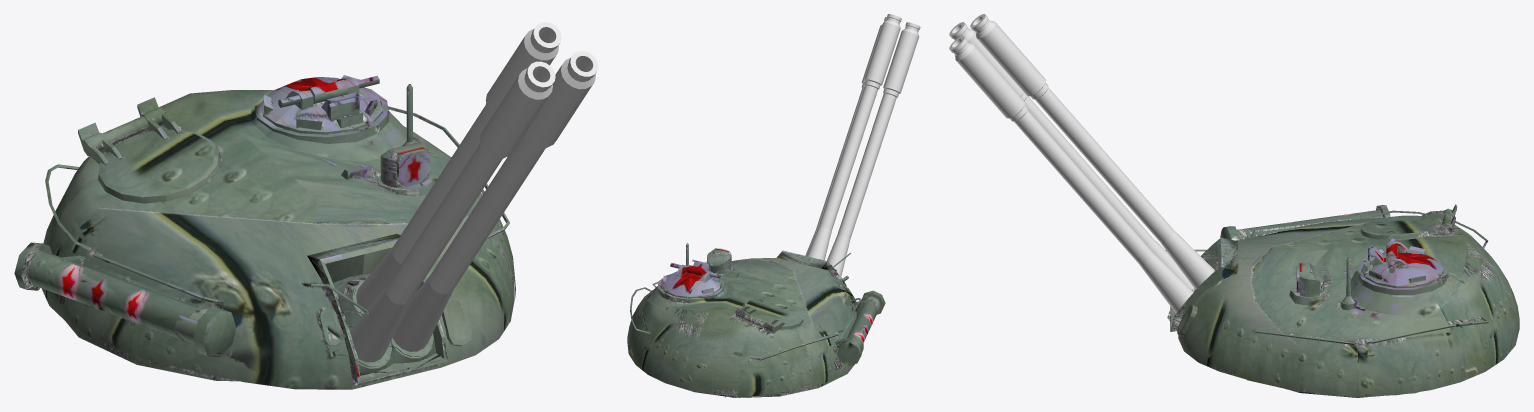
File: Tank.fbx
3 renders of one model, left to right at view 1: azimuth 30°, elevation 25°; view 2: azimuth 150°, elevation 25°; view 3: azimuth 270°, elevation 25°, orthographic. The views are drawn at different scales.
Parts seen in each view (by area): view 1: T-55A 1963 Soviet Tank Edited by Alex.Ka., T-55A 1963 Soviet Tank Edited by Alex.Ka..001, T-55A 1963 Soviet Tank Edited by Alex.Ka..002, T-55A 1963 Soviet Tank Edited by Alex.Ka..003; view 2: T-55A 1963 Soviet Tank Edited by Alex.Ka., T-55A 1963 Soviet Tank Edited by Alex.Ka..001, T-55A 1963 Soviet Tank Edited by Alex.Ka..003, T-55A 1963 Soviet Tank Edited by Alex.Ka..002; view 3: T-55A 1963 Soviet Tank Edited by Alex.Ka., T-55A 1963 Soviet Tank Edited by Alex.Ka..002, T-55A 1963 Soviet Tank Edited by Alex.Ka..003, T-55A 1963 Soviet Tank Edited by Alex.Ka..001.
Part boxes in pixels (box(x1,y1,x2,y2)): T-55A 1963 Soviet Tank Edited by Alex.Ka.: box(14, 75, 515, 389); T-55A 1963 Soviet Tank Edited by Alex.Ka..001: box(349, 61, 555, 362); T-55A 1963 Soviet Tank Edited by Alex.Ka..002: box(393, 51, 598, 351); T-55A 1963 Soviet Tank Edited by Alex.Ka..003: box(356, 22, 561, 312); T-55A 1963 Soviet Tank Edited by Alex.Ka.: box(627, 243, 885, 397); T-55A 1963 Soviet Tank Edited by Alex.Ka..001: box(827, 22, 920, 276); T-55A 1963 Soviet Tank Edited by Alex.Ka..003: box(807, 14, 901, 260); T-55A 1963 Soviet Tank Edited by Alex.Ka..002: box(805, 17, 886, 256); T-55A 1963 Soviet Tank Edited by Alex.Ka.: box(1165, 204, 1519, 397); T-55A 1963 Soviet Tank Edited by Alex.Ka..002: box(949, 36, 1193, 313); T-55A 1963 Soviet Tank Edited by Alex.Ka..003: box(970, 14, 1214, 289); T-55A 1963 Soviet Tank Edited by Alex.Ka..001: box(949, 22, 1194, 291).
Bounding box in the file's own units: 48.4 × 48.24 × 78.72.
Materials: 4 (1 with a texture image).
